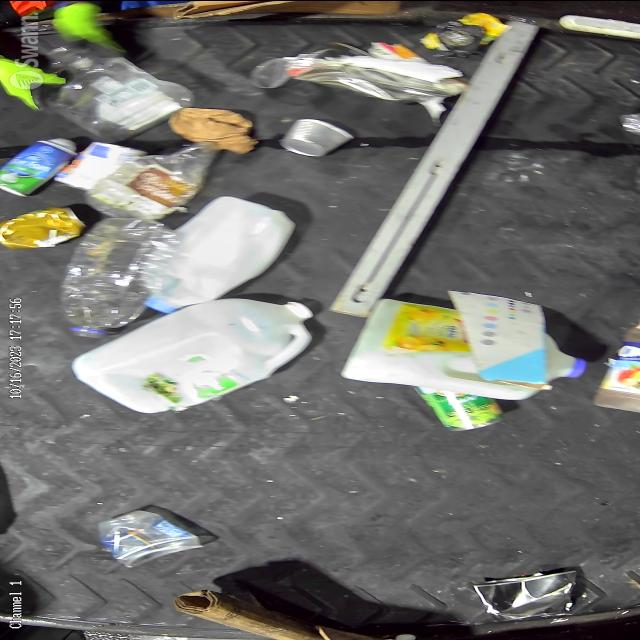can: (0, 201, 88, 258), (273, 115, 360, 162)
milk_jug: (68, 293, 324, 418), (333, 299, 592, 398), (133, 194, 294, 316)
plastic_bottle: (60, 218, 178, 344), (82, 140, 219, 222)
